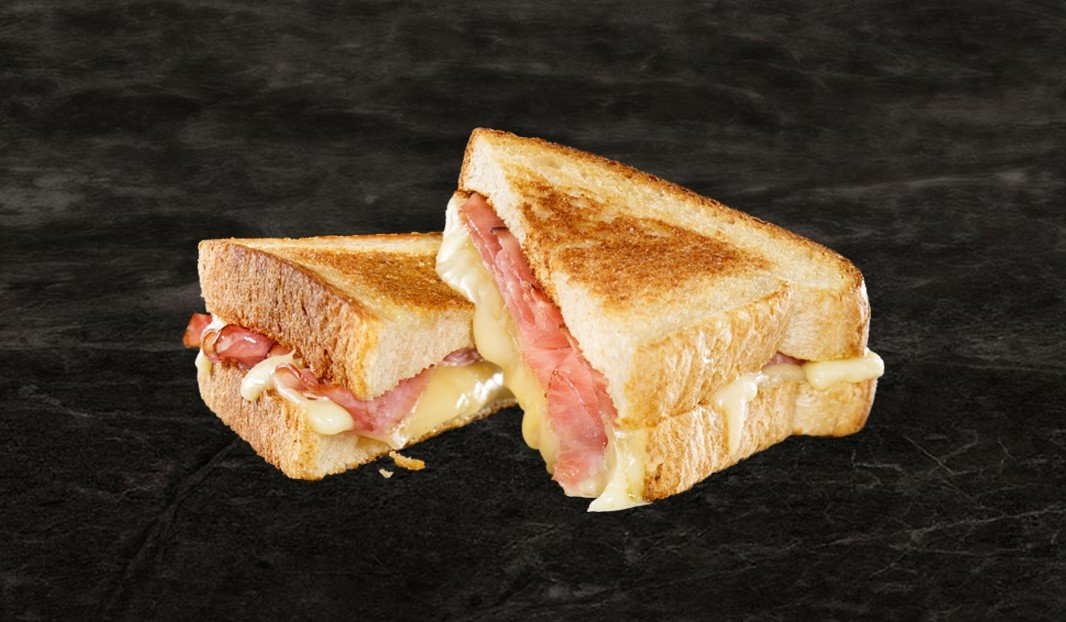cheese: (452, 257, 566, 431)
